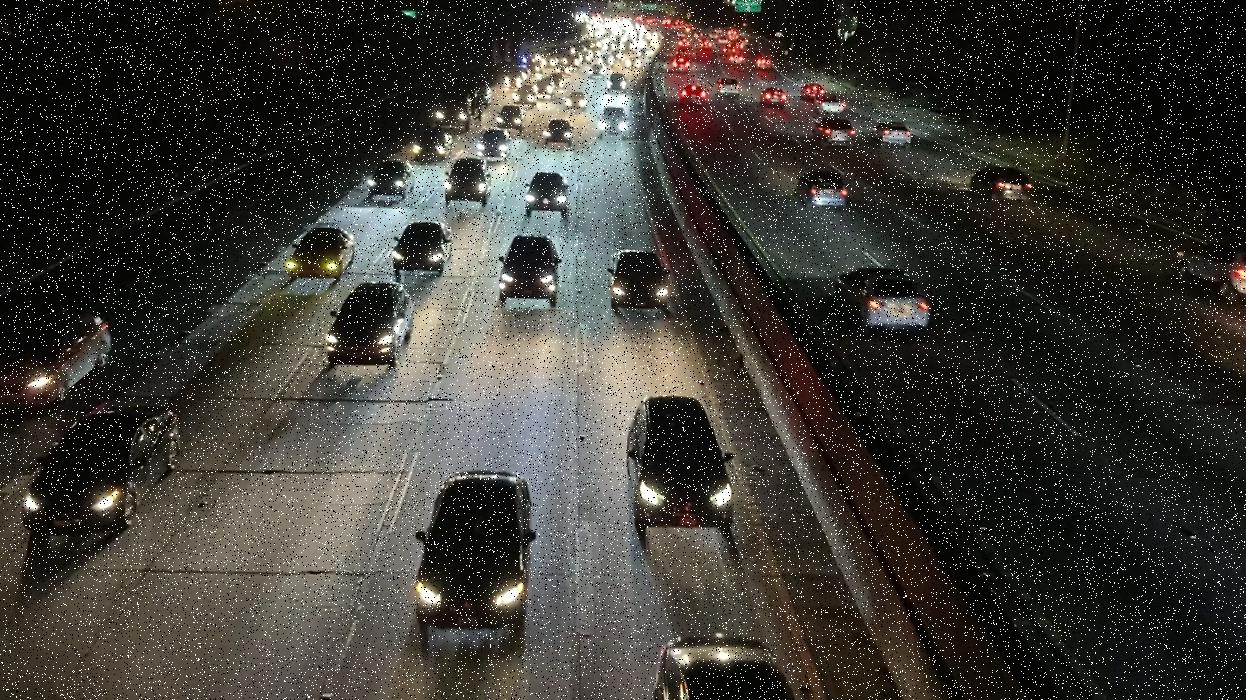car: (404, 468, 538, 642), (21, 409, 185, 538), (624, 392, 738, 540), (652, 628, 808, 700), (0, 305, 112, 405), (829, 268, 931, 337), (323, 285, 407, 368), (496, 231, 561, 303), (1177, 236, 1246, 300), (609, 249, 673, 311), (284, 227, 356, 280), (389, 222, 453, 275), (445, 158, 493, 205), (966, 167, 1035, 199), (525, 171, 570, 219), (794, 169, 847, 208), (366, 162, 416, 198), (813, 117, 857, 147), (476, 129, 512, 162), (413, 130, 451, 160), (599, 105, 628, 141), (871, 124, 910, 149), (544, 118, 575, 147), (495, 103, 527, 131), (814, 93, 845, 115), (680, 84, 707, 106), (760, 87, 788, 104), (717, 77, 740, 96)
